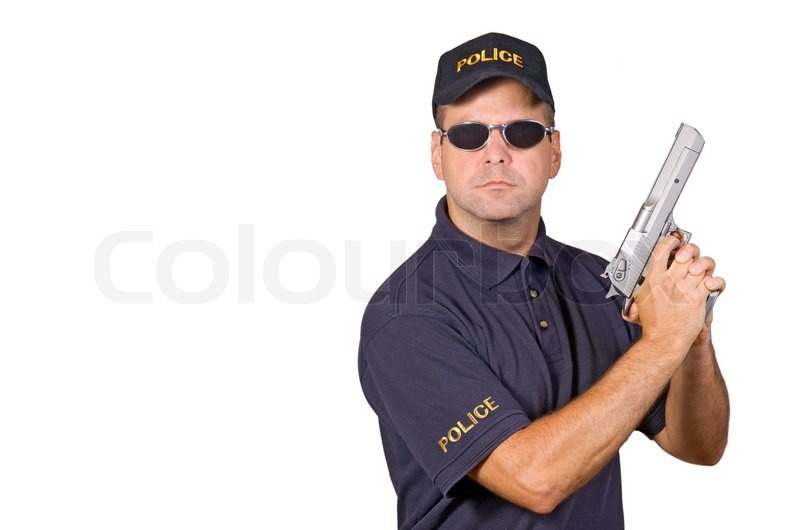pistol: (581, 75, 768, 371)
